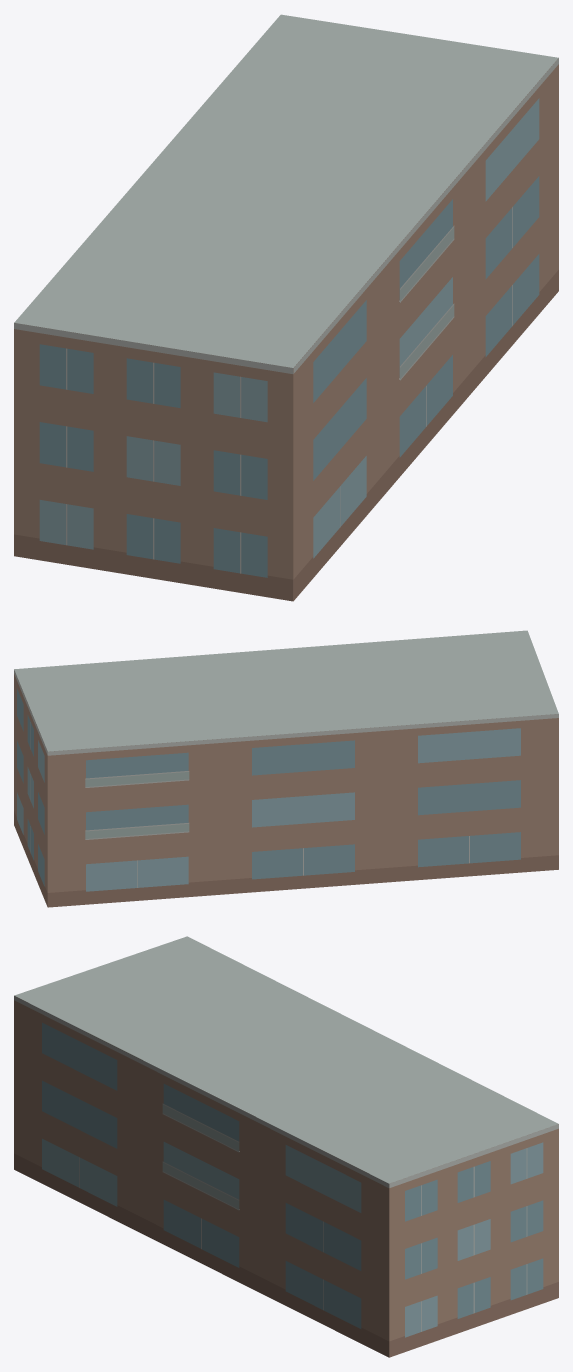
The model's file is survey-upis-32786922.glb.
3 renders of one model, top to bottom at view 1: azimuth 30°, elevation 25°; view 2: azimuth 150°, elevation 25°; view 3: azimuth 270°, elevation 25°, orthographic. The views are drawn at different scales.
Parts seen in each view (by area): view 1: survey-upis-32786922.tmp; view 2: survey-upis-32786922.tmp; view 3: survey-upis-32786922.tmp.
Part boxes in pixels (x1,y1,x2,y2): survey-upis-32786922.tmp: (14,14,558,601); survey-upis-32786922.tmp: (14,630,558,907); survey-upis-32786922.tmp: (14,936,558,1357).
Bounding box in the file's own units: 27.92 × 9.15 × 25.98.
